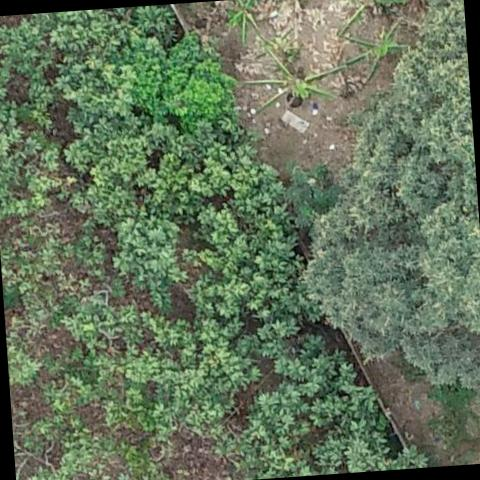Banana-plant: (239, 56, 341, 124), (339, 17, 422, 91), (327, 0, 412, 37), (219, 0, 282, 45)
